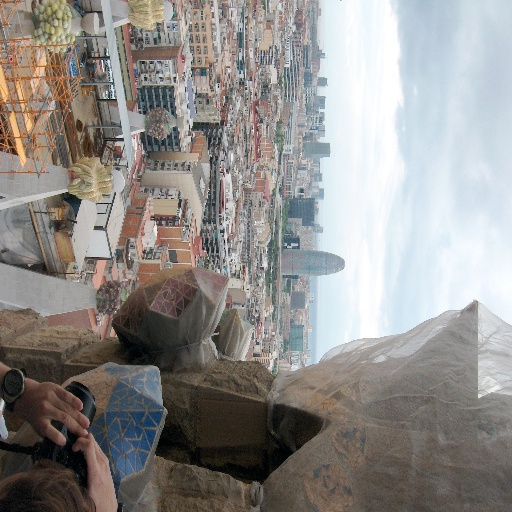hand: (1, 372, 94, 459), (71, 431, 117, 511)
